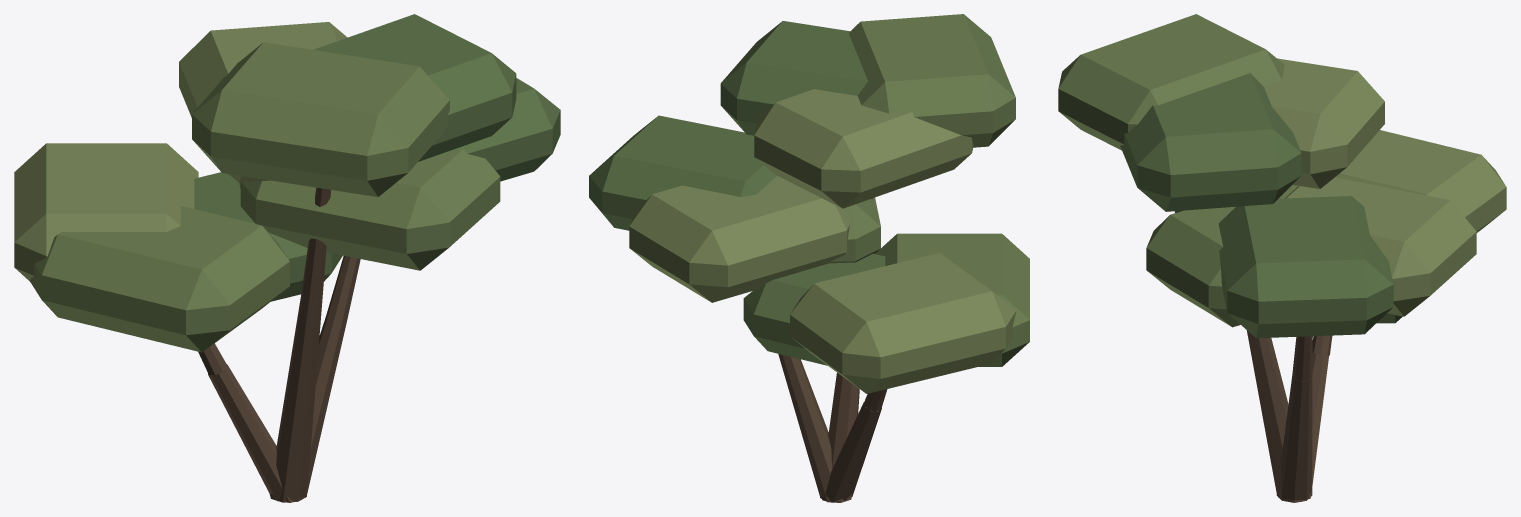
The model's file is elderberry_young_spring.glb.
3 renders of one model, left to right at view 1: azimuth 30°, elevation 25°; view 2: azimuth 150°, elevation 25°; view 3: azimuth 270°, elevation 25°, orthographic. The views are drawn at different scales.
Parts seen in each view (by area): view 1: elderberry_young_spring; view 2: elderberry_young_spring; view 3: elderberry_young_spring.
Boxes of the visible parts, left/top/right/bottom form: elderberry_young_spring: left=14, top=14, right=560, bottom=502; elderberry_young_spring: left=589, top=14, right=1029, bottom=502; elderberry_young_spring: left=1058, top=14, right=1506, bottom=502.
Bounding box in the file's own units: 0.9701 × 0.9017 × 0.8551.
